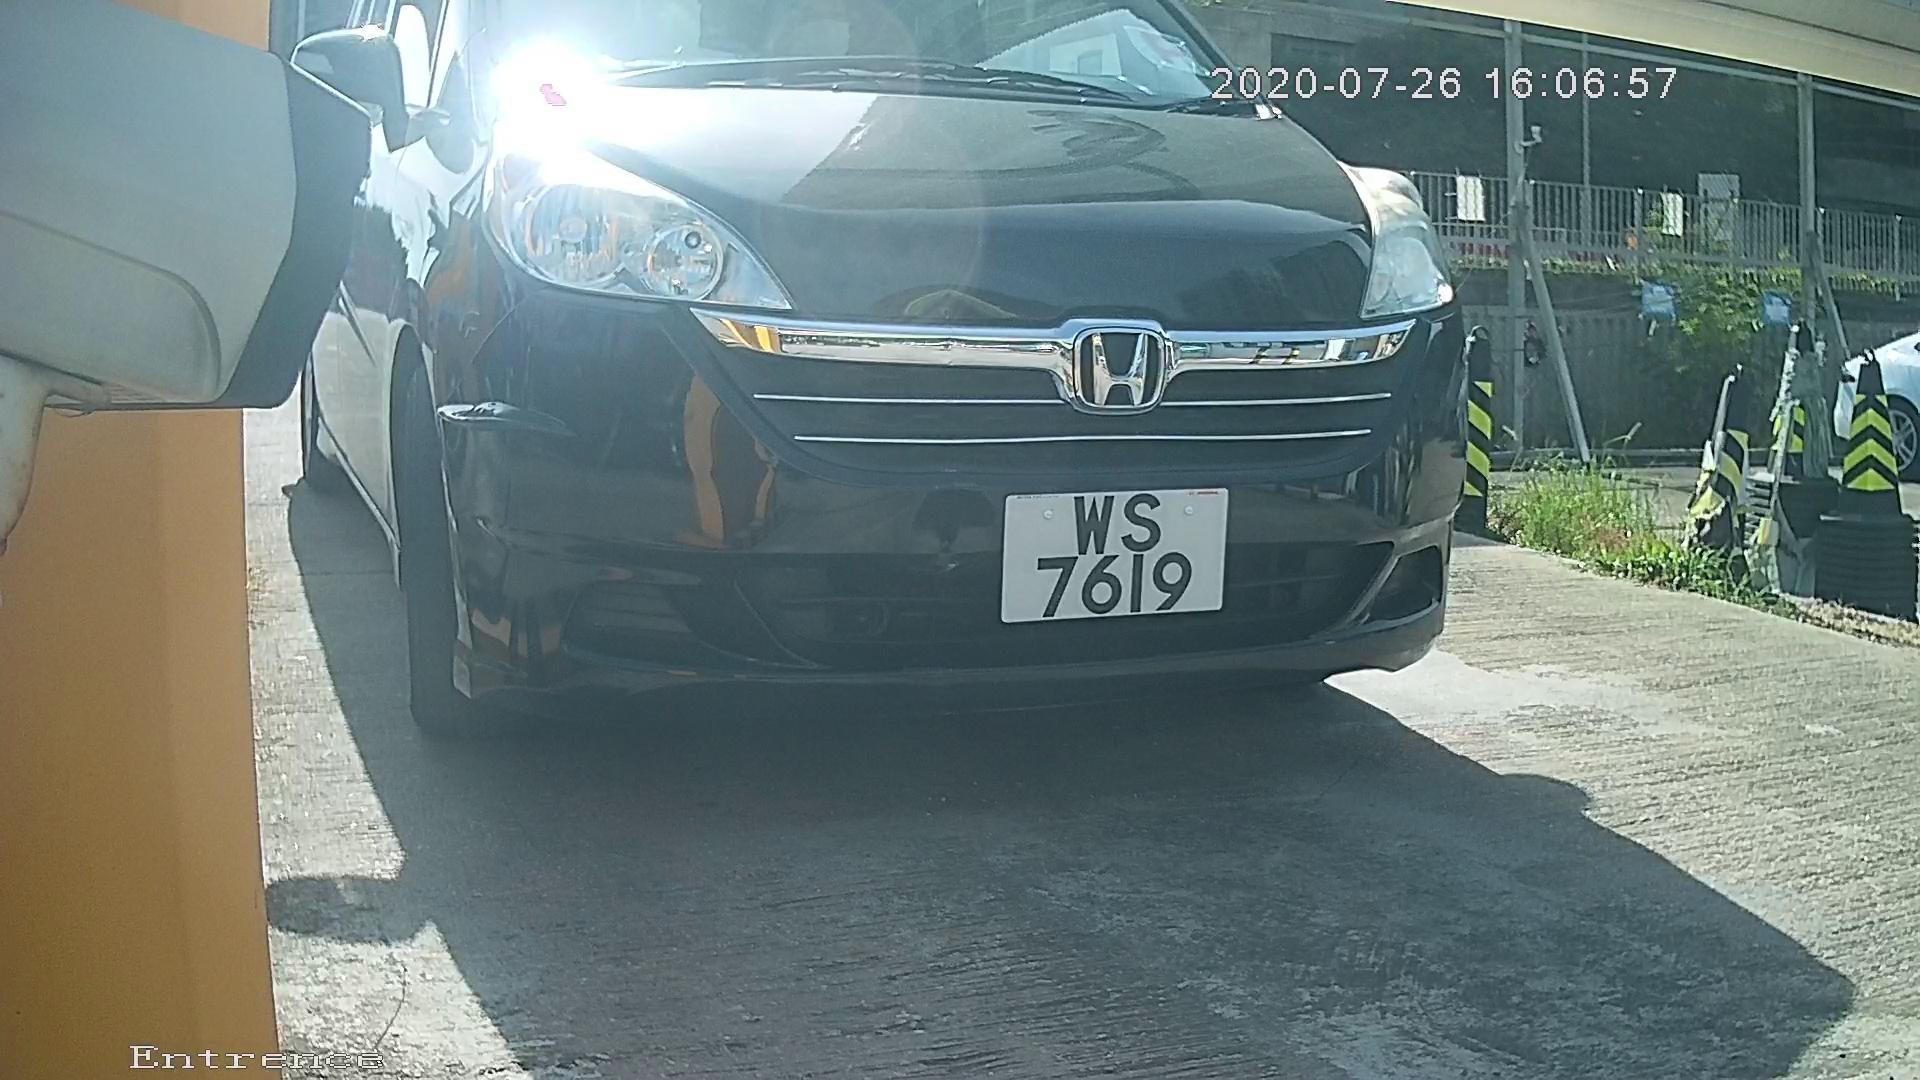privatecar: (215, 1, 1526, 829)
